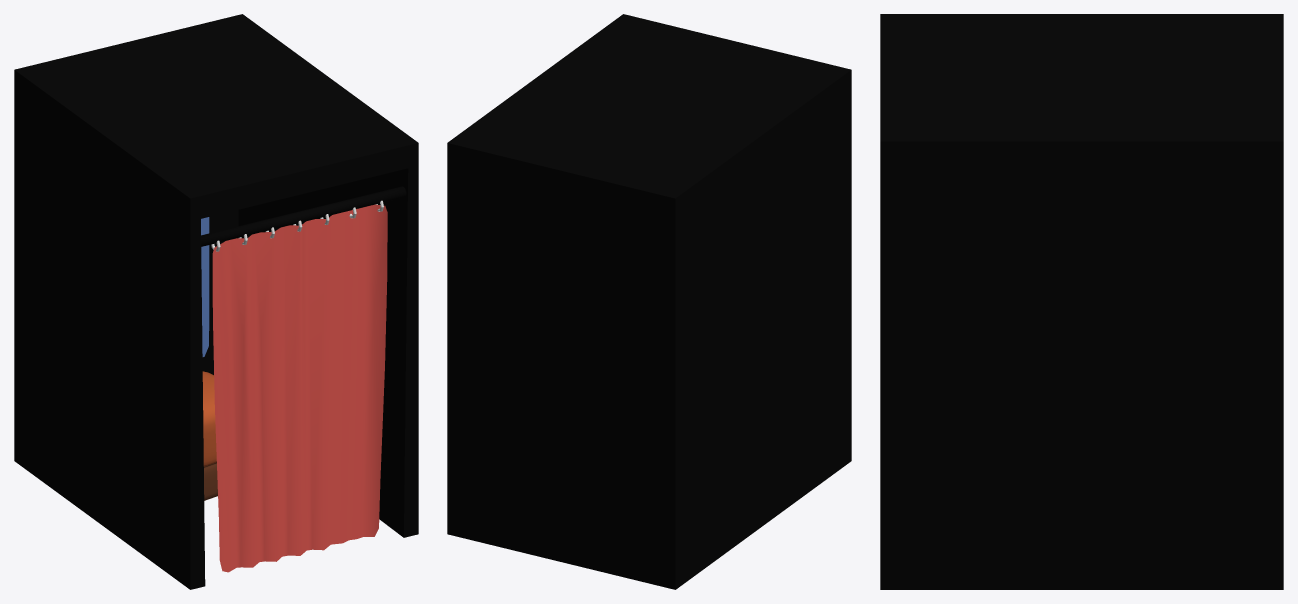
Rendered from fitting_room_box.fbx.
The picture shows the model from 3 angles, left to right: view 1: azimuth 30°, elevation 25°; view 2: azimuth 150°, elevation 25°; view 3: azimuth 270°, elevation 25°; orthographic projection. The views are drawn at different scales.
Parts seen in each view (by area): view 1: Cube.020, Plane.006, Cube.019; view 2: Cube.020; view 3: Cube.020.
Part boxes in pixels (x1,y1,x2,y2): Cube.020: [14, 14, 418, 589]; Plane.006: [212, 204, 387, 572]; Cube.019: [202, 371, 217, 500]; Cube.020: [447, 14, 851, 589]; Cube.020: [880, 14, 1283, 589].
Bounding box in the file's own units: 429 × 702 × 573.
